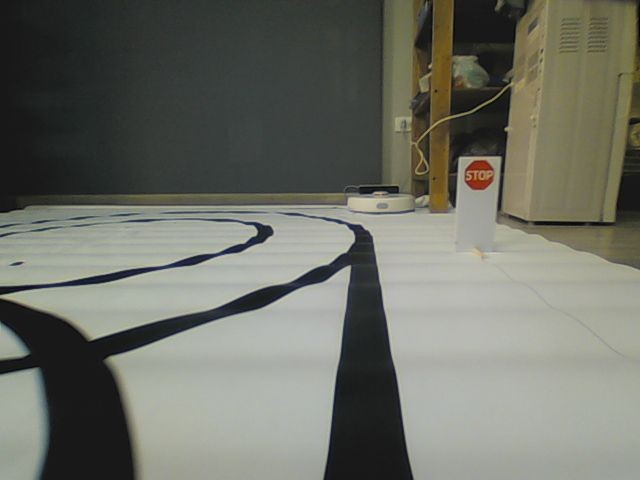Stop: (462, 159, 496, 192)
